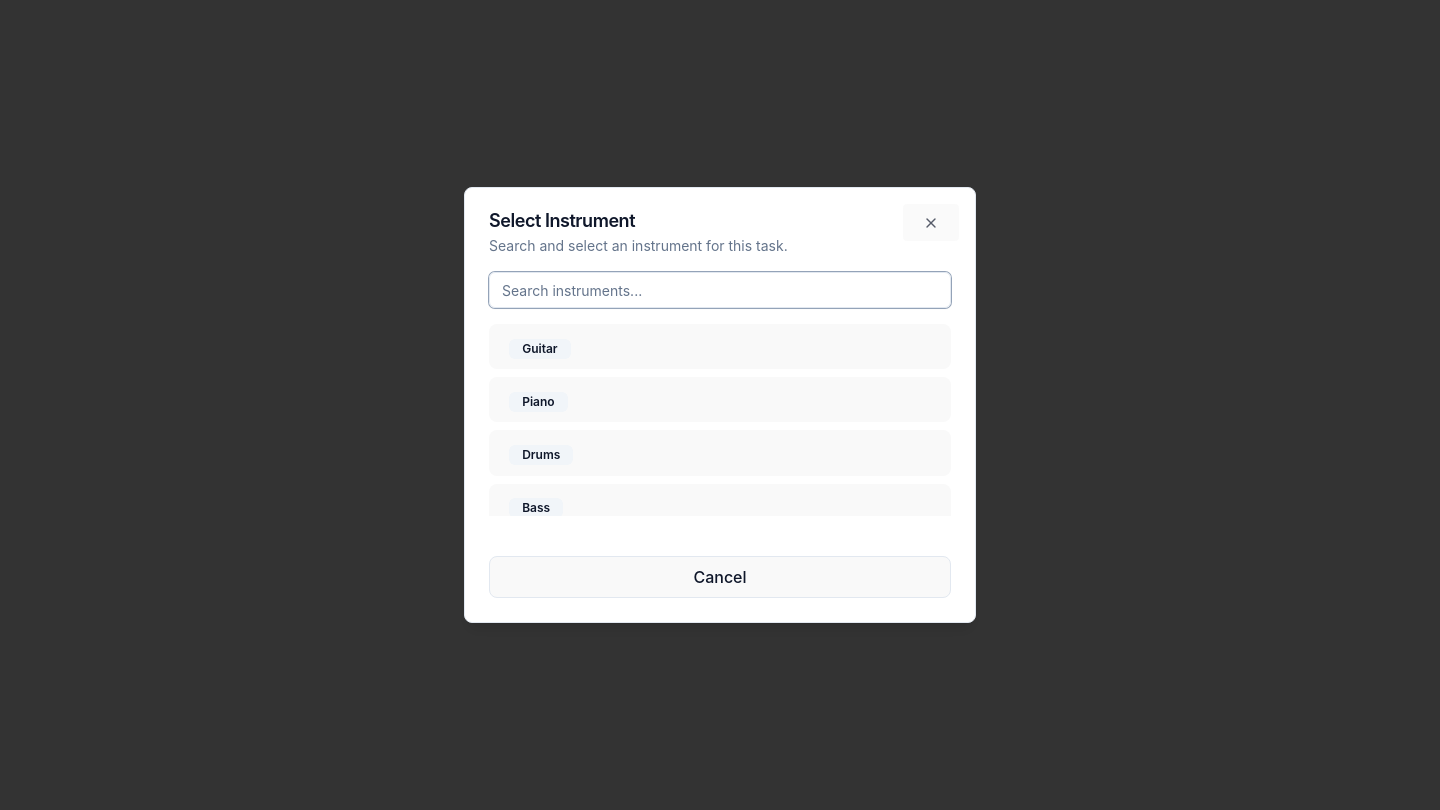
Scenario: InstrumentModal › shows "No instruments found" when search has no results
Type "xyz" into the field with placeholder "Search instruments..." at point(720, 290), box [489,272,951,308]
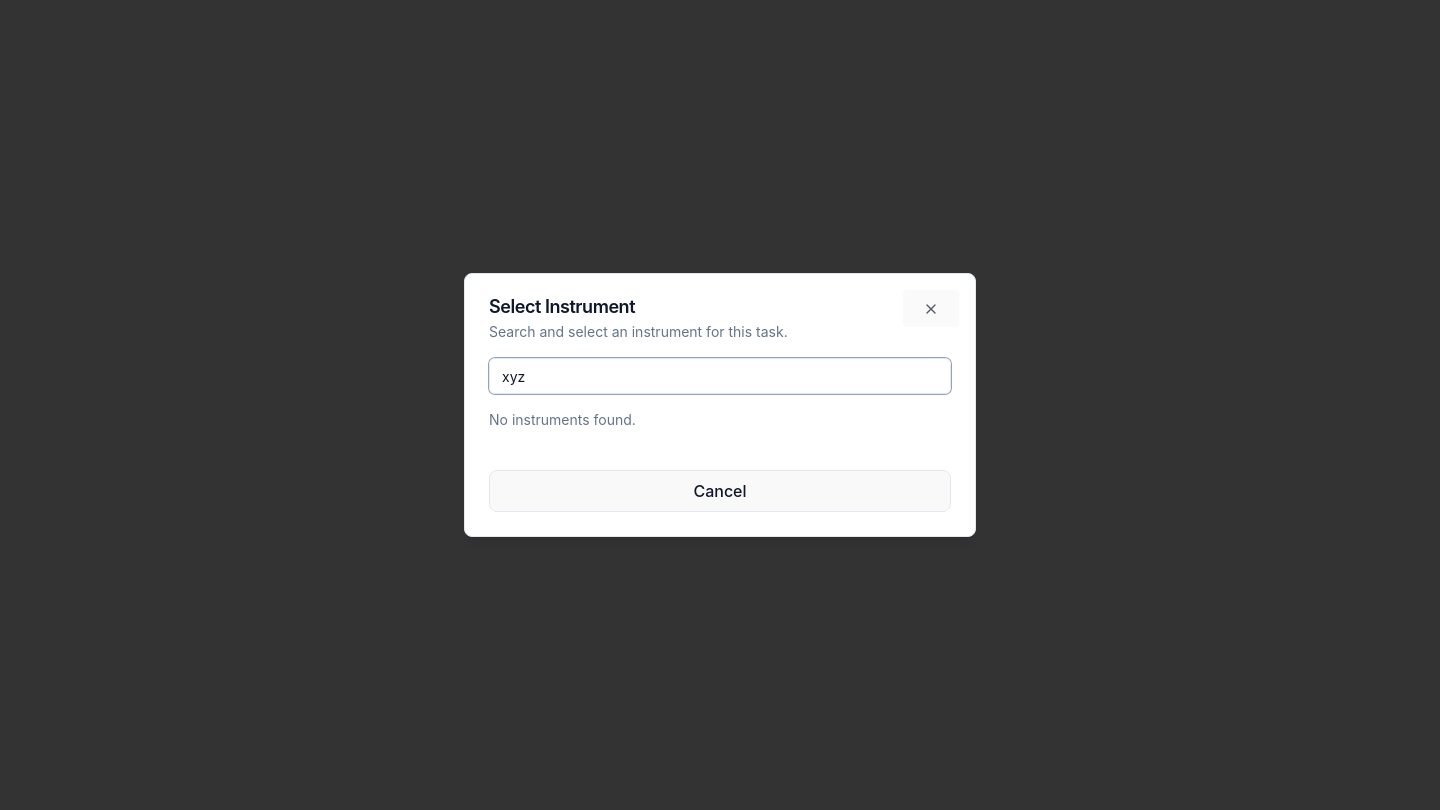
Now the text "No instruments found." is shown, box [489,411,636,428]
Now the button "Guitar" is gone
Now the button "Piano" is gone
